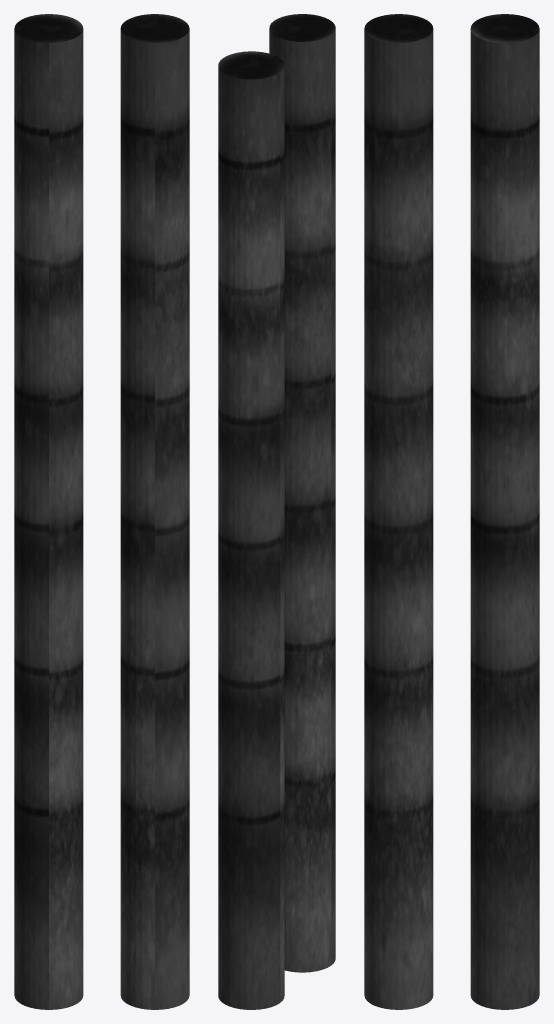
File: Pipes.fbx
The picture shows the model from 3 angles, left to right: view 1: azimuth 90°, elevation 25°; view 2: azimuth 150°, elevation 25°; view 3: azimuth 270°, elevation 25°; orthographic projection. The views are drawn at different scales.
Parts seen in each view (by area): view 1: Cylinder.001; view 2: Cylinder.001; view 3: Cylinder.001.
Boxes of the visible parts, x1,y1,x2,y2 form: Cylinder.001: (14,14,189,1009); Cylinder.001: (218,14,335,1009); Cylinder.001: (364,14,539,1009).
Size of the model in its own units: 32.42 by 502 by 82.33.
